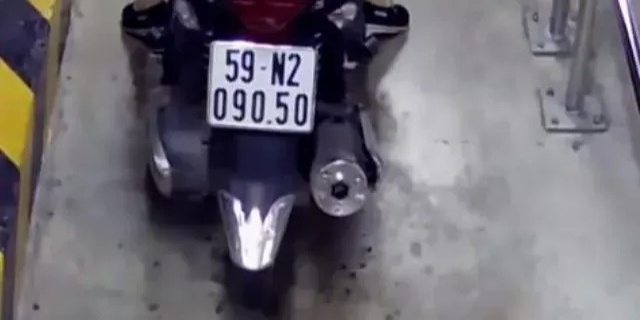bien_so: (207, 40, 316, 134)
